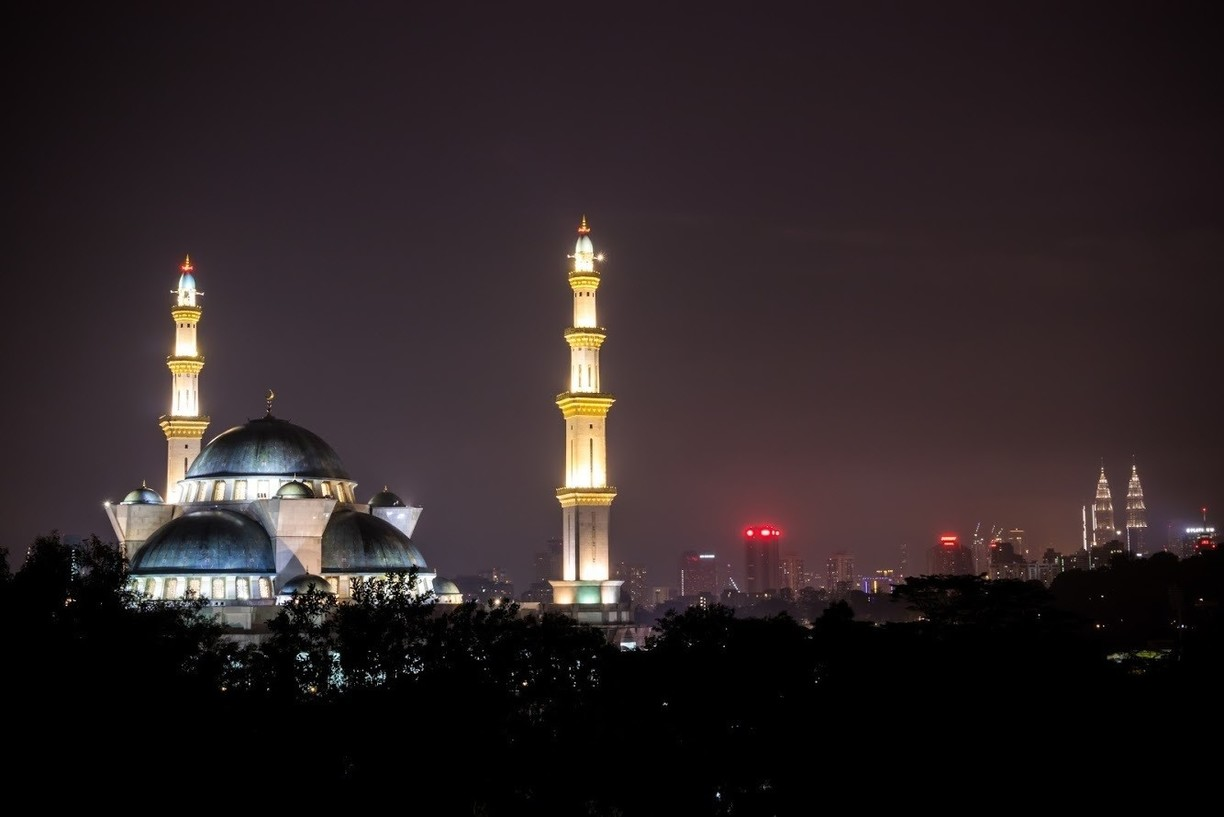Mosque: (112, 203, 625, 604)
